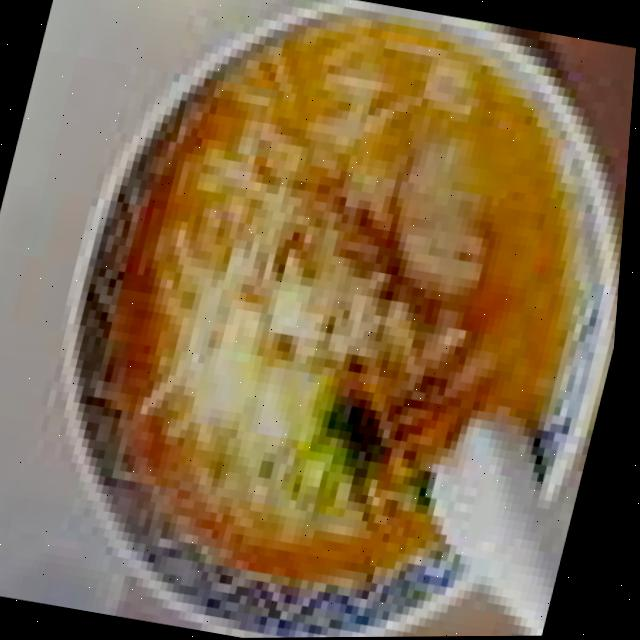面条主食: (17, 0, 640, 640)
